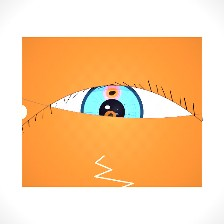foreign_body_visible: (97, 82, 126, 105)
